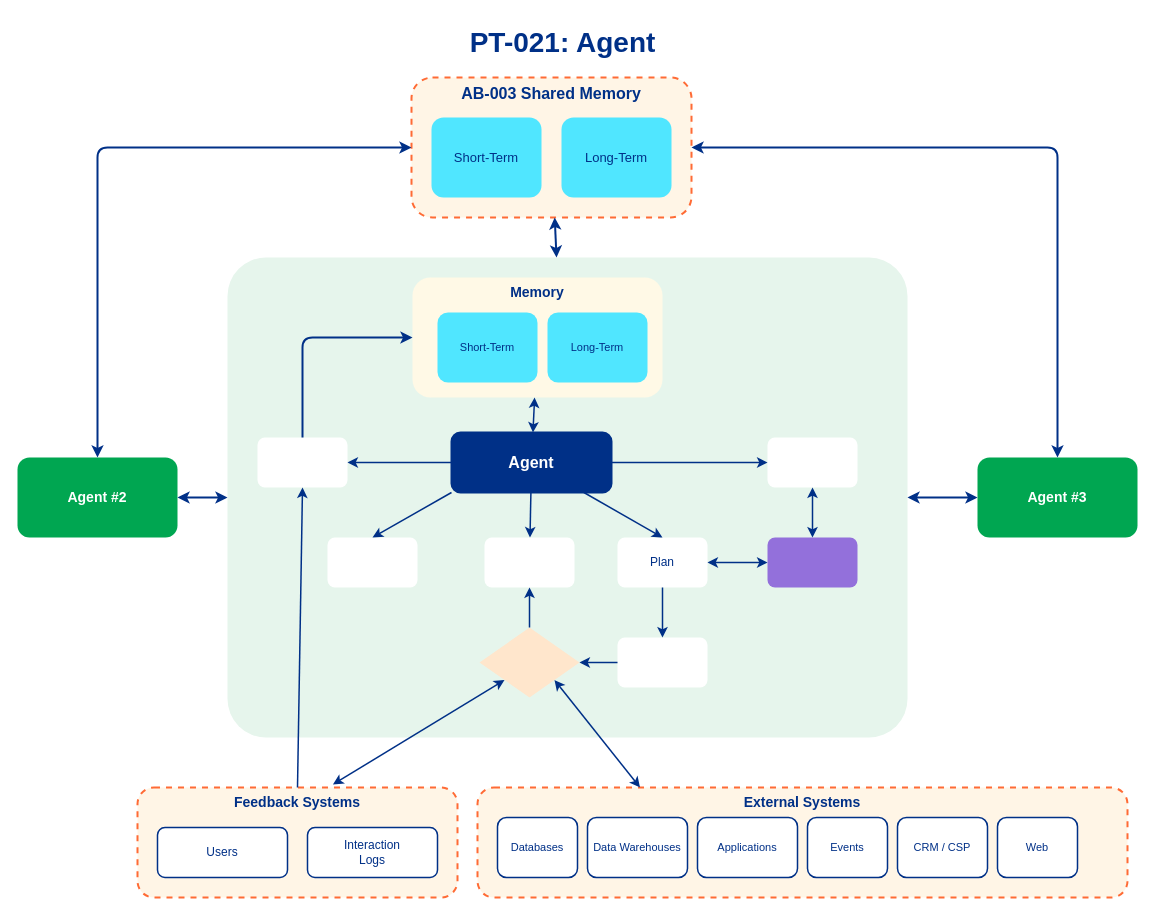
This 1154x915 diagram has some shape labels left out. The centre of each missing label's shape, as x and y in pixels:
"Act" goes at point (662, 662).
"Learn" goes at point (302, 462).
"LLM" goes at point (812, 562).
"Perceive" goes at point (529, 562).
"Persona" goes at point (372, 562).
"Reason" goes at point (812, 462).
"Tools" goes at point (529, 662).
